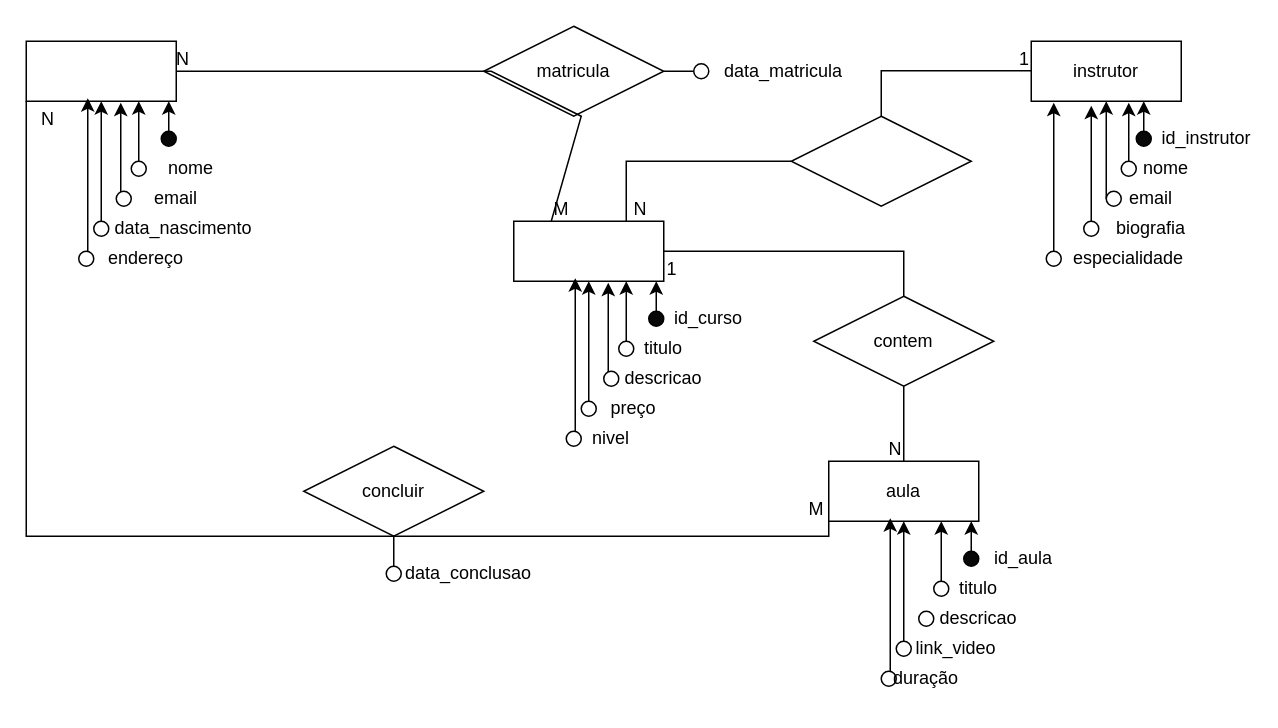
This 1278x728 diagram has some shape labels left out. The shapes that lost their labels are listed below. From the top down, each one's centre as x and y in pixels, then its label:
At (100,70): "aluno".
At (880,160): "ministra".
At (588,250): "curso".
